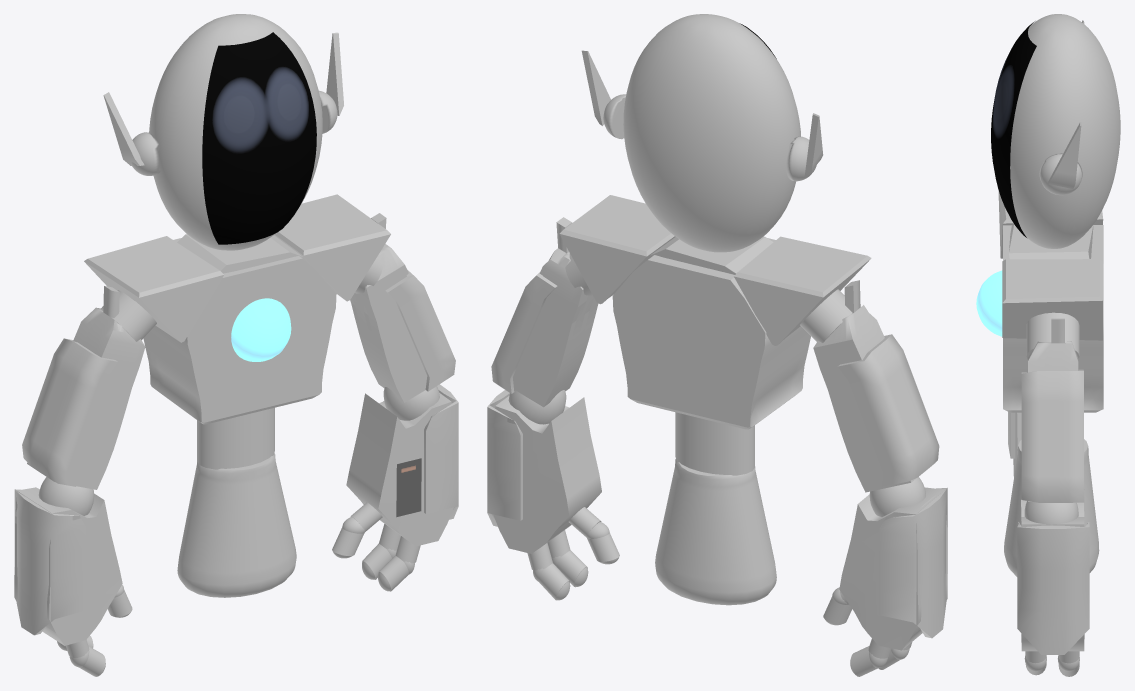
Rendered from B.O.B The Robot.glb.
The picture shows the model from 3 angles, left to right: view 1: azimuth 30°, elevation 25°; view 2: azimuth 150°, elevation 25°; view 3: azimuth 270°, elevation 25°; orthographic projection. The views are drawn at different scales.
Parts seen in each view (by area): view 1: Robot:Visor2, Robot:Upper_Torso, Robot:Rocker_Thruster, Robot:Base, Robot:Amour_Plate_2_Left, Robot:Amour_Plate_1_Left, Robot:Forarm_Right, Robot:Left_Shoulder, Robot:Right_Shoulder, Robot:Bisep_Left, Robot:Bisep_Right, Robot:Forarm_Left (+12 smaller); view 2: Robot:Base, Robot:Upper_Torso, Robot:Rocker_Thruster, Robot:Forarm_Right, Robot:Amour_Plate_1_Left, Robot:Left_Shoulder, Robot:Amour_Plate_2_Left, Robot:Bisep_Right, Robot:Right_Shoulder, Robot:Bisep_Left, Robot:Forarm_Left, Robot:Lower_Torso (+10 smaller); view 3: Robot:Base, Robot:Amour_Plate_2_Right, Robot:Amour_Plate_1_Right, Robot:Right_Shoulder, Robot:Upper_Torso, Robot:Visor2, Robot:Rocker_Thruster, Robot:Bisep_Right, Robot:Neck, Robot:Bellow_Sholder_Right, Robot:Chest_Light, Robot:Joint (+6 smaller).
Boxes of the visible parts, x1=… form: Robot:Visor2: x1=202, y1=32, x2=316, y2=244; Robot:Upper_Torso: x1=143, y1=238, x2=336, y2=424; Robot:Rocker_Thruster: x1=177, y1=453, x2=296, y2=597; Robot:Base: x1=149, y1=14, x2=322, y2=250; Robot:Amour_Plate_2_Left: x1=14, y1=489, x2=86, y2=635; Robot:Amour_Plate_1_Left: x1=22, y1=338, x2=117, y2=486; Robot:Forarm_Right: x1=346, y1=393, x2=453, y2=546; Robot:Left_Shoulder: x1=84, y1=236, x2=224, y2=342; Robot:Right_Shoulder: x1=274, y1=194, x2=390, y2=301; Robot:Bisep_Left: x1=27, y1=286, x2=145, y2=489; Robot:Bisep_Right: x1=350, y1=213, x2=427, y2=402; Robot:Forarm_Left: x1=14, y1=487, x2=122, y2=645; Robot:Base: x1=623, y1=14, x2=800, y2=252; Robot:Upper_Torso: x1=612, y1=238, x2=810, y2=429; Robot:Rocker_Thruster: x1=655, y1=459, x2=776, y2=605; Robot:Forarm_Right: x1=493, y1=396, x2=601, y2=553; Robot:Amour_Plate_1_Left: x1=838, y1=334, x2=939, y2=486; Robot:Left_Shoulder: x1=734, y1=236, x2=871, y2=345; Robot:Amour_Plate_2_Left: x1=879, y1=487, x2=947, y2=638; Robot:Bisep_Right: x1=513, y1=217, x2=598, y2=407; Robot:Right_Shoulder: x1=559, y1=195, x2=675, y2=304; Robot:Bisep_Left: x1=813, y1=280, x2=934, y2=492; Robot:Forarm_Left: x1=839, y1=487, x2=947, y2=650; Robot:Lower_Torso: x1=675, y1=412, x2=754, y2=475; Robot:Base: x1=1010, y1=14, x2=1120, y2=248; Robot:Amour_Plate_2_Right: x1=1017, y1=522, x2=1089, y2=654; Robot:Amour_Plate_1_Right: x1=1021, y1=369, x2=1084, y2=502; Robot:Right_Shoulder: x1=1002, y1=259, x2=1102, y2=340; Robot:Upper_Torso: x1=1003, y1=225, x2=1103, y2=412; Robot:Visor2: x1=991, y1=21, x2=1036, y2=237; Robot:Rocker_Thruster: x1=1004, y1=439, x2=1099, y2=576; Robot:Bisep_Right: x1=1028, y1=318, x2=1078, y2=501; Robot:Neck: x1=1009, y1=224, x2=1093, y2=259; Robot:Bellow_Sholder_Right: x1=1026, y1=312, x2=1079, y2=359; Robot:Chest_Light: x1=976, y1=270, x2=1002, y2=336; Robot:Joint: x1=1024, y1=501, x2=1078, y2=525.
Bounding box in the file's own units: 0.0713 × 0.0977 × 0.0214.
4 materials, 2 textured.
